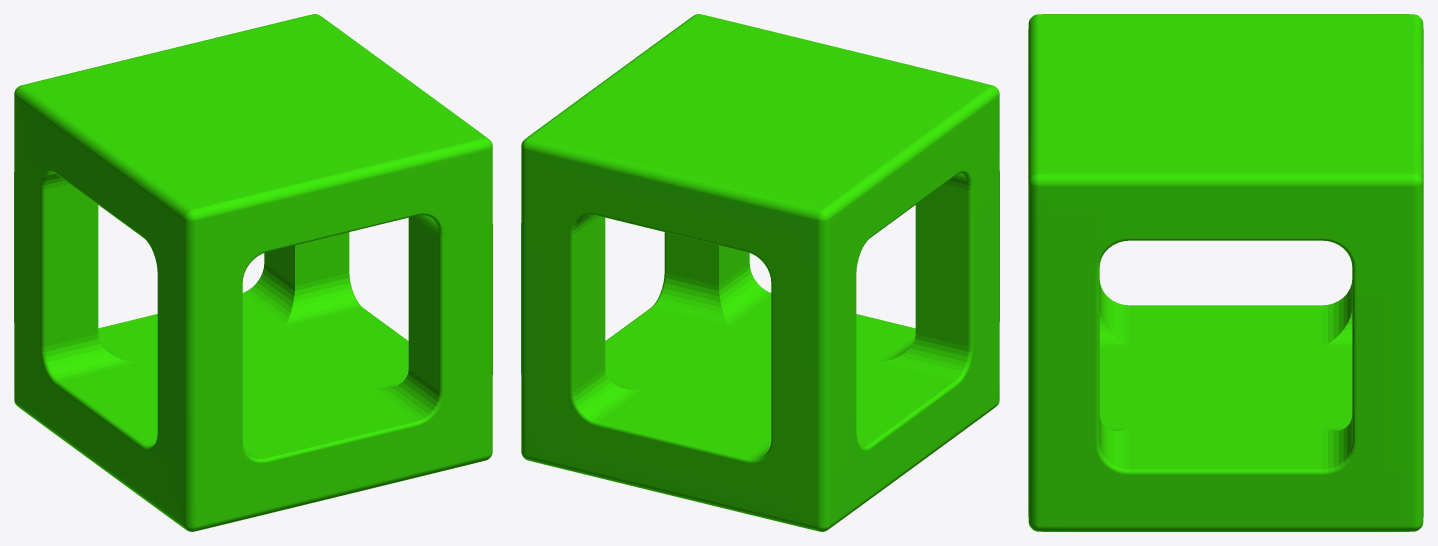
The model's file is glass_box.glb.
3 renders of one model, left to right at view 1: azimuth 30°, elevation 25°; view 2: azimuth 150°, elevation 25°; view 3: azimuth 270°, elevation 25°, orthographic. The views are drawn at different scales.
Parts seen in each view (by area): view 1: Cube; view 2: Cube; view 3: Cube.
Boxes of the visible parts, x1,y1,x2,y2 form: Cube: (14, 14, 492, 531); Cube: (521, 14, 999, 531); Cube: (1028, 14, 1423, 531).
Bounding box in the file's own units: 17.9 × 17.9 × 17.9.
